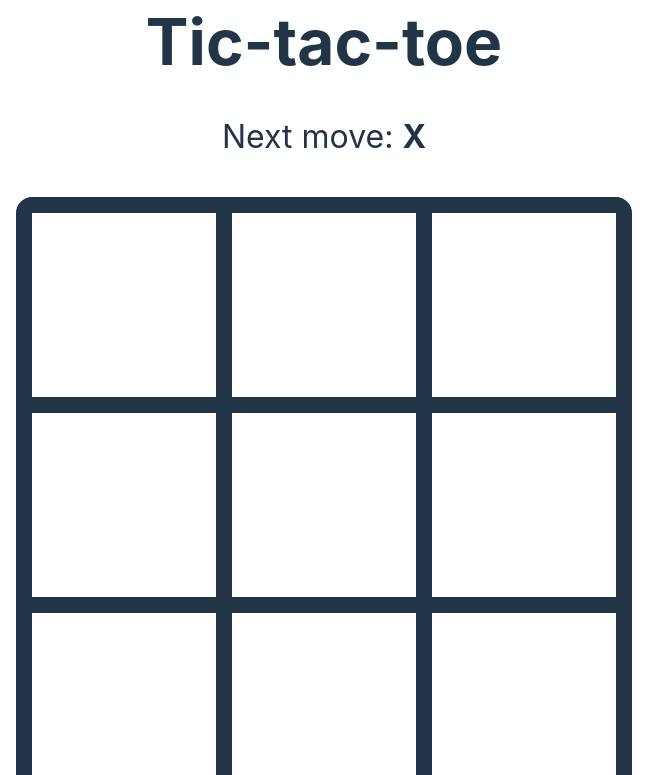
Scenario: App › Moves › should display next move player and switch it when that player performs a move
The image size is (649, 775).
Check: the text "Next move: X" is shown, box [222,117,426,156]
Check: the text "X" is shown, box [402,117,426,156]
Click the element with test id "cell-0".
click(124, 305)  # box [24,205,224,405]
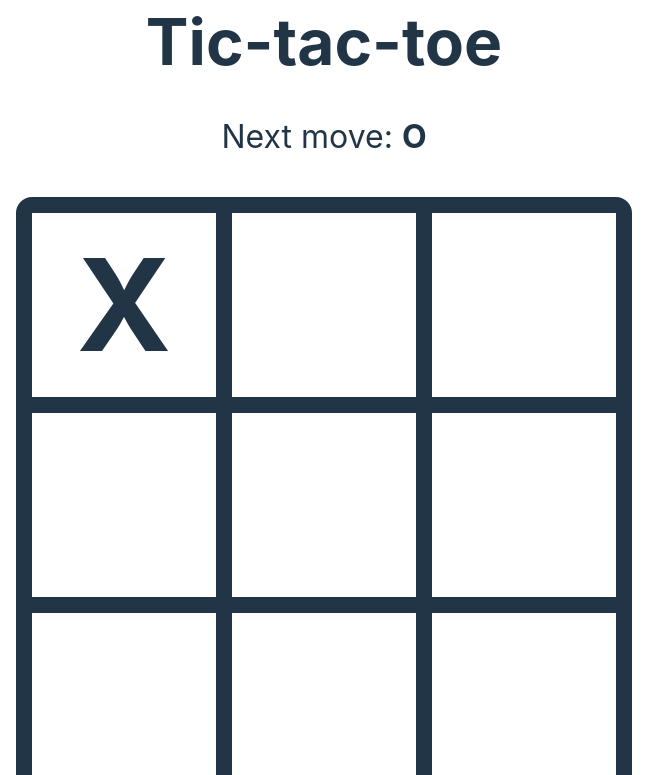
Check: the text "O" is shown, box [402,117,427,156]
